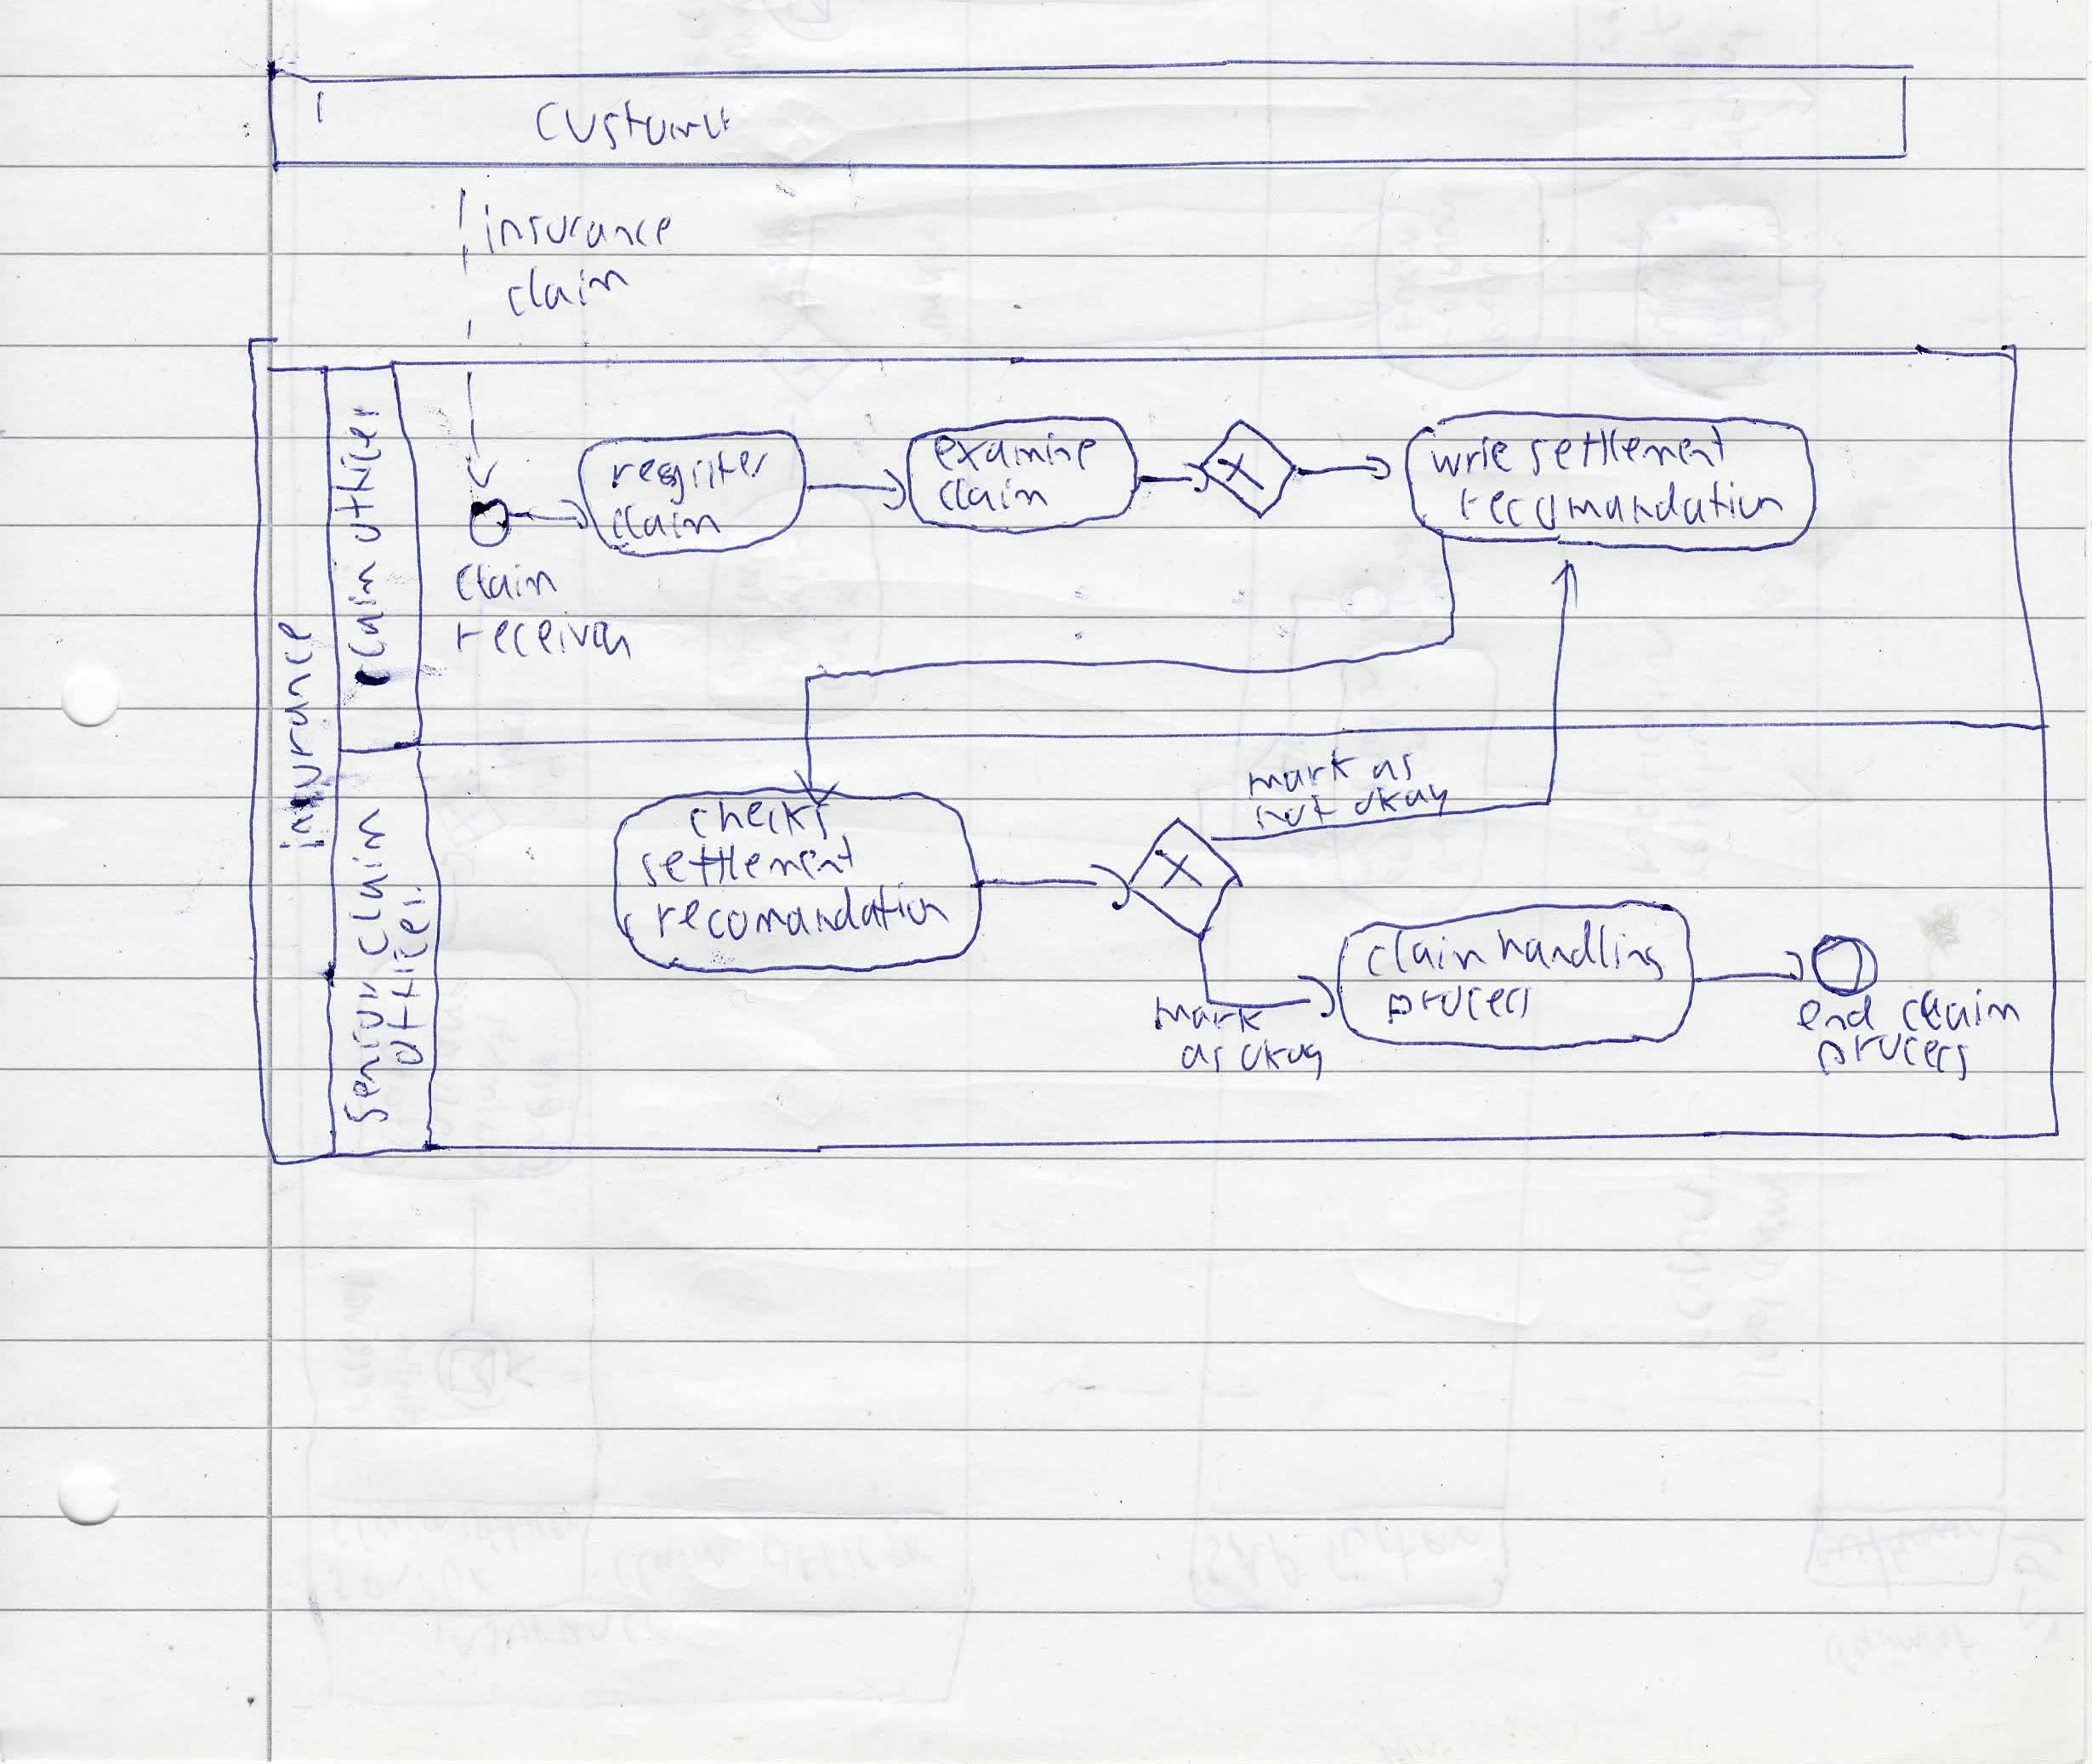Caim: (339, 555, 395, 667)
Claim: (448, 555, 563, 605), (932, 472, 1055, 518)
as: (1174, 1039, 1231, 1080), (1366, 747, 1419, 787)
checks: (682, 793, 840, 849)
claim: (341, 801, 399, 962), (500, 257, 637, 324), (1359, 924, 1492, 985), (1894, 982, 2027, 1039), (603, 499, 728, 548)
customer: (528, 91, 736, 156)
end: (1791, 987, 1882, 1039)
examine: (929, 427, 1104, 478)
handling: (1490, 913, 1669, 990)
insurance: (268, 611, 329, 859), (474, 198, 679, 264)
mark: (1240, 740, 1363, 805), (1147, 990, 1270, 1038)
not: (1251, 789, 1343, 838)
officer: (380, 891, 436, 1074), (325, 397, 387, 548)
okay: (1349, 777, 1454, 826), (1235, 1032, 1328, 1087)
process: (1810, 1025, 1975, 1090), (1382, 978, 1538, 1031)
receiver: (450, 604, 640, 670)
recomandation: (1452, 472, 1791, 539), (649, 877, 957, 948)
register: (605, 444, 775, 513)
senior: (336, 975, 395, 1132)
settlement: (631, 828, 861, 894), (1522, 420, 1733, 483)
wrie: (1424, 429, 1520, 483)
